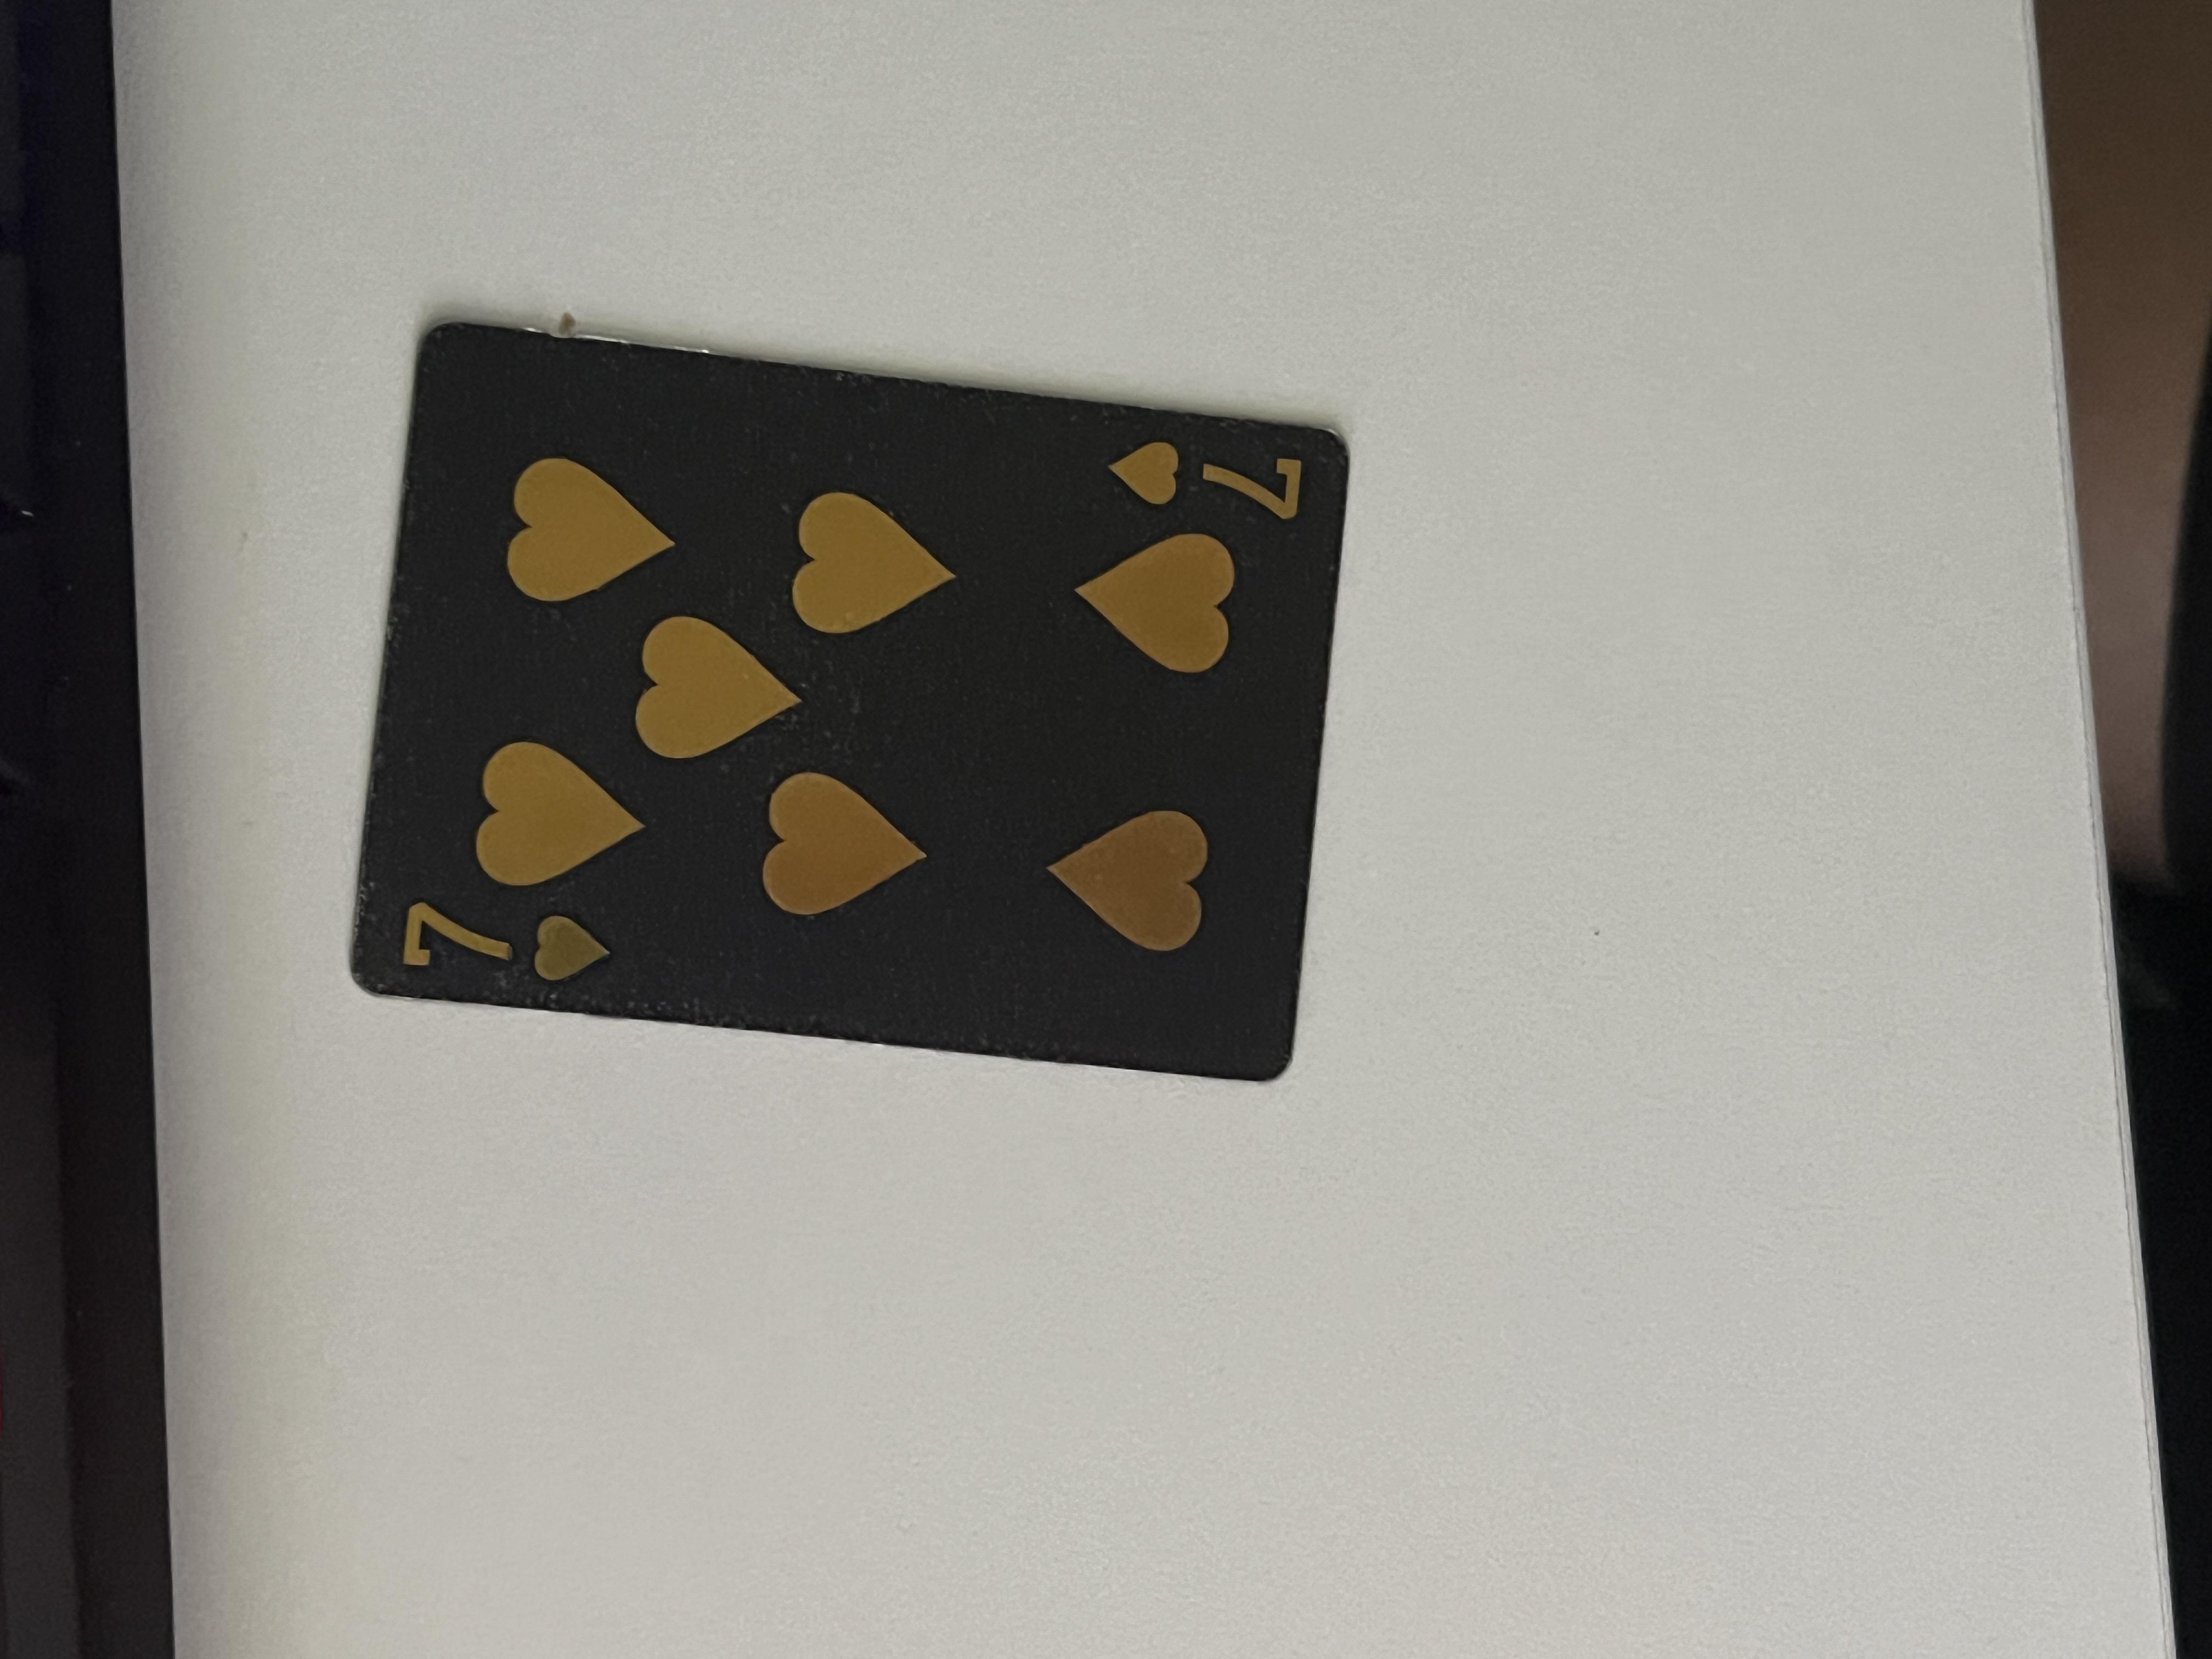7H: (881, 288, 1019, 464), (1510, 816, 1632, 988)
